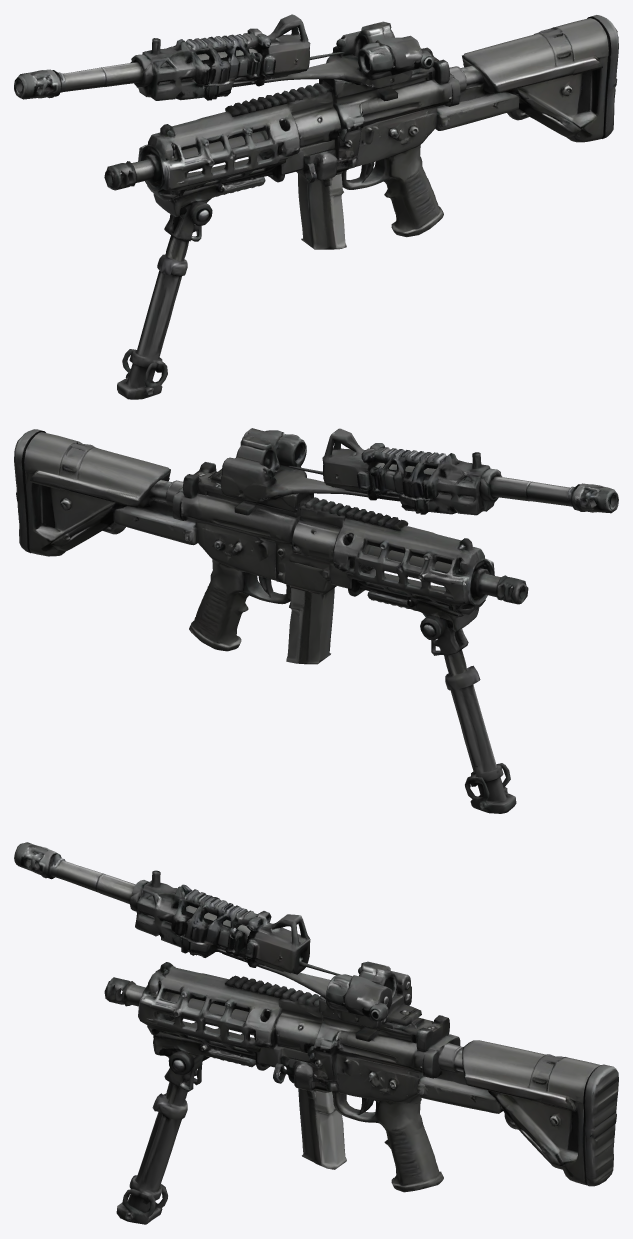
3 views of the same model, one above another, from view 1: azimuth 30°, elevation 25°; view 2: azimuth 150°, elevation 25°; view 3: azimuth 330°, elevation 25° (orthographic).
Parts seen in each view (by area): view 1: tripo_node_27330b99-38e6-4713-ba30-e3401af40f76; view 2: tripo_node_27330b99-38e6-4713-ba30-e3401af40f76; view 3: tripo_node_27330b99-38e6-4713-ba30-e3401af40f76.
Boxes of the visible parts, x1,y1,x2,y2 form: tripo_node_27330b99-38e6-4713-ba30-e3401af40f76: (14, 14, 618, 399); tripo_node_27330b99-38e6-4713-ba30-e3401af40f76: (14, 428, 618, 813); tripo_node_27330b99-38e6-4713-ba30-e3401af40f76: (14, 842, 618, 1224).
Size of the model in its own units: 0.9811 by 0.5546 by 0.1293.
Materials: 1 (1 with a texture image).
